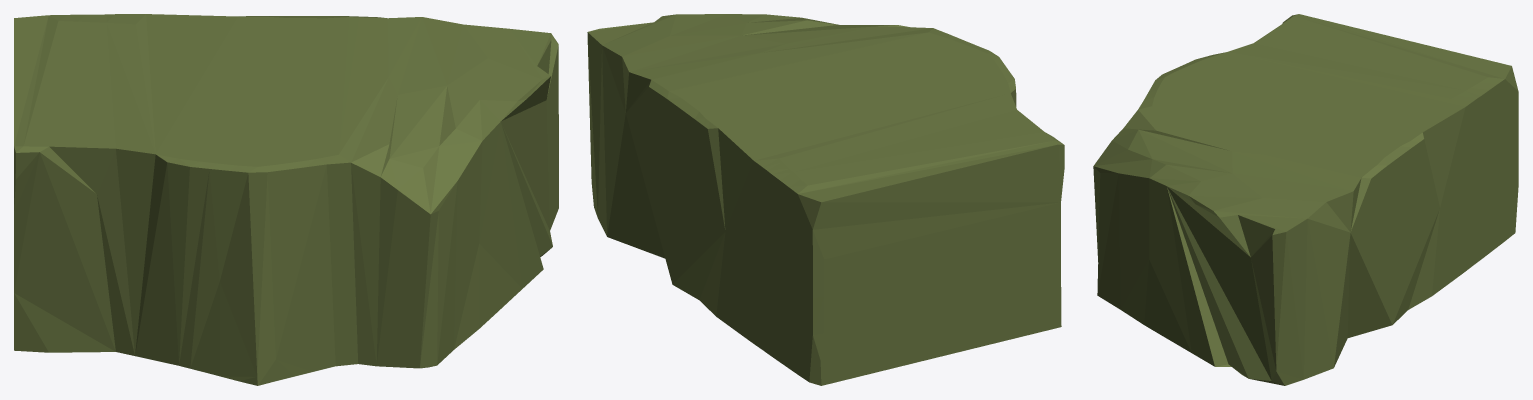
File: ground_23.fbx
The picture shows the model from 3 angles, left to right: view 1: azimuth 30°, elevation 25°; view 2: azimuth 150°, elevation 25°; view 3: azimuth 270°, elevation 25°; orthographic projection. The views are drawn at different scales.
Visible parts, largest first — view 1: ground_23; view 2: ground_23; view 3: ground_23.
Boxes of the visible parts, x1=… form: ground_23: x1=14, y1=14, x2=558, y2=385; ground_23: x1=587, y1=14, x2=1064, y2=385; ground_23: x1=1093, y1=14, x2=1518, y2=385.
Size of the model in its own units: 20.41 by 7.48 by 17.37.
